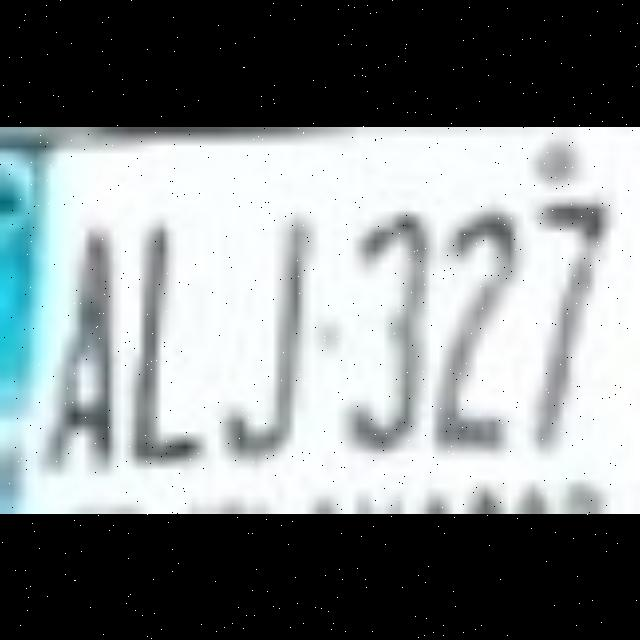2: (430, 189, 518, 473)
3: (348, 189, 434, 473)
7: (514, 189, 600, 473)
A: (42, 193, 130, 477)
J: (224, 193, 310, 477)
L: (132, 193, 218, 477)
